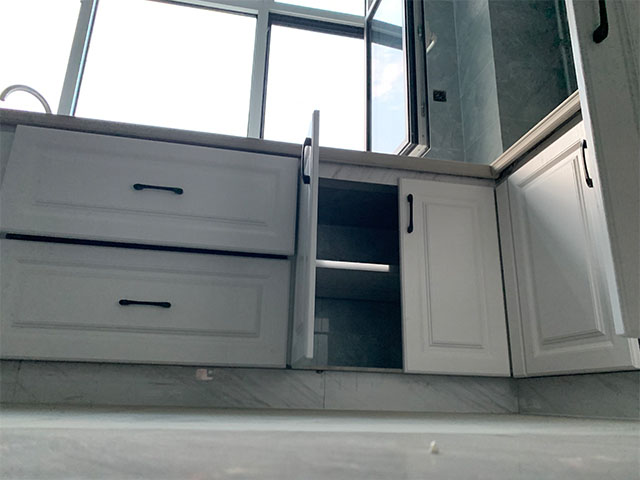cabinet: (1, 114, 501, 422), (490, 102, 640, 418)
